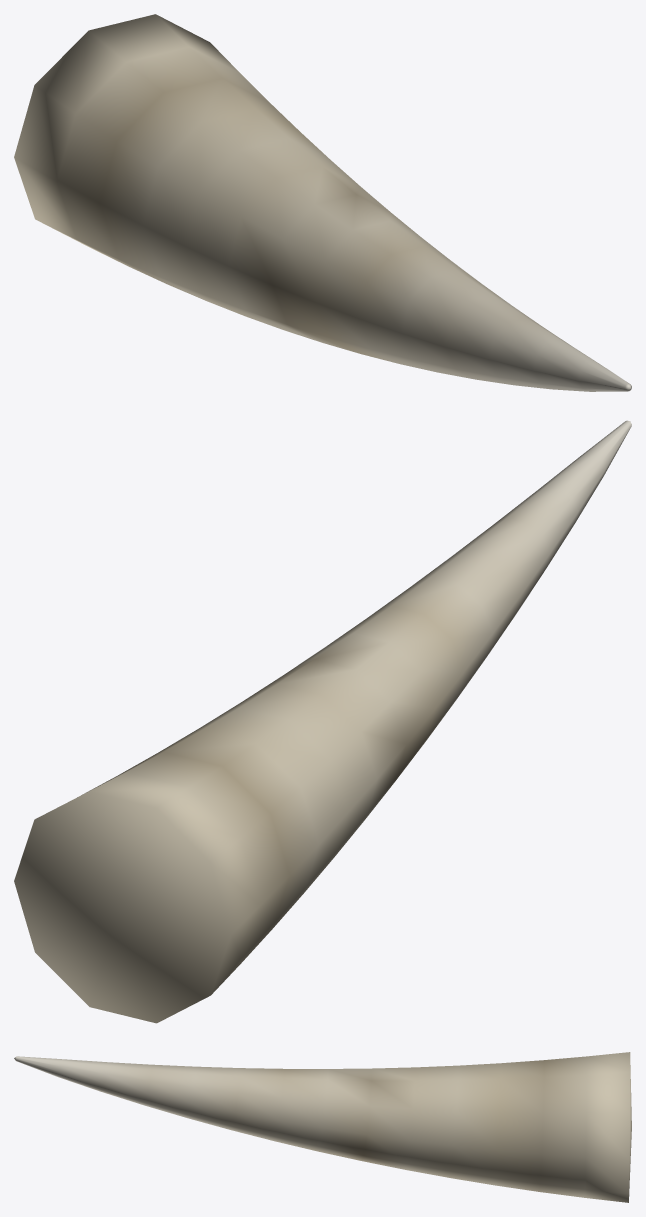
The model's file is bone-horn-b.glb.
3 renders of one model, top to bottom at view 1: azimuth 30°, elevation 25°; view 2: azimuth 150°, elevation 25°; view 3: azimuth 270°, elevation 25°, orthographic. The views are drawn at different scales.
Parts seen in each view (by area): view 1: bone-horn-b; view 2: bone-horn-b; view 3: bone-horn-b.
Boxes of the visible parts, x1,y1,x2,y2 form: bone-horn-b: (14, 14, 631, 391); bone-horn-b: (14, 420, 631, 1023); bone-horn-b: (14, 1052, 631, 1202).
Size of the model in its own units: 0.248 by 0.2454 by 1.01.
